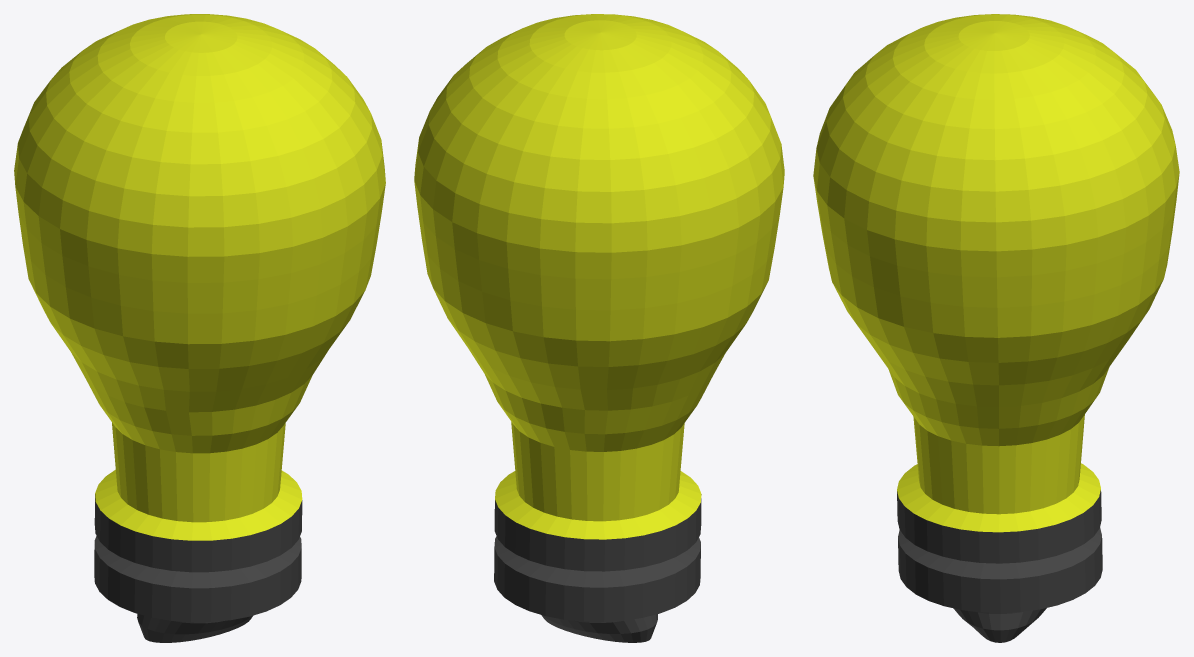
File: foco.fbx
3 views of the same model, side by side, from view 1: azimuth 30°, elevation 25°; view 2: azimuth 150°, elevation 25°; view 3: azimuth 270°, elevation 25° (orthographic).
Parts seen in each view (by area): view 1: Esfera.001; view 2: Esfera.001; view 3: Esfera.001.
Part boxes in pixels (box(x1,y1,x2,y2)): Esfera.001: box(14, 14, 385, 642); Esfera.001: box(414, 14, 784, 642); Esfera.001: box(813, 14, 1179, 642).
Bounding box in the file's own units: 236 × 416 × 236.
